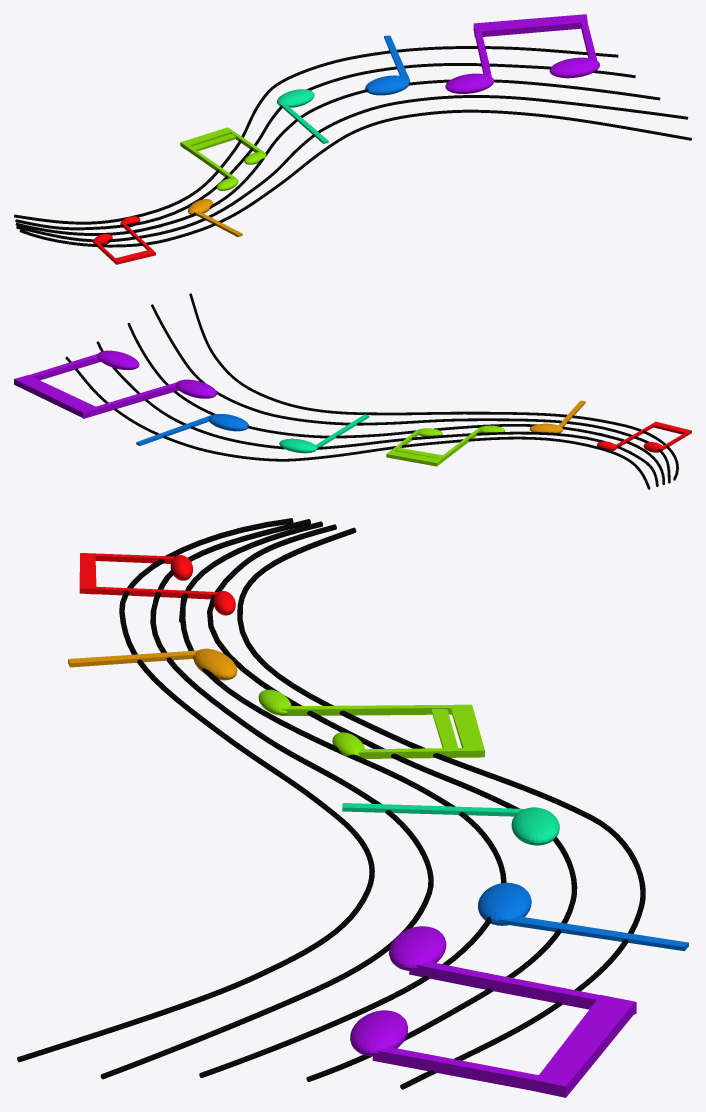
The model's file is MusicWave.fbx.
3 views of the same model, one above another, from view 1: azimuth 30°, elevation 25°; view 2: azimuth 150°, elevation 25°; view 3: azimuth 270°, elevation 25° (orthographic). The views are drawn at different scales.
Visible parts, largest first — view 1: Point.005, Point.002, Point.001, Point.003, Point.004, Cube.009, Sphere.006, Sphere.005, Sphere.008, Sphere.007, Cube.005; view 2: Point.001, Point.005, Point.002, Point.004, Point.003, Cube.009, Cube.007, Cube.008, Sphere.006, Sphere.005, Sphere.008, Cube.005 (+3 smaller); view 3: Point.005, Point.002, Point.001, Point.003, Point.004, Cube.009, Cube.007, Cube.008, Sphere.006, Sphere.005, Cube.010, Sphere.008 (+8 smaller).
Part boxes in pixels (x1=…): Point.005: x1=19, y1=109, x2=691, y2=247; Point.002: x1=16, y1=95, x2=688, y2=242; Point.001: x1=14, y1=46, x2=618, y2=224; Point.003: x1=15, y1=79, x2=660, y2=235; Point.004: x1=15, y1=63, x2=635, y2=230; Cube.009: x1=474, y1=14, x2=587, y2=37; Sphere.006: x1=549, y1=57, x2=599, y2=78; Sphere.005: x1=445, y1=73, x2=494, y2=93; Sphere.008: x1=365, y1=75, x2=410, y2=95; Sphere.007: x1=277, y1=89, x2=314, y2=107; Cube.005: x1=180, y1=127, x2=230, y2=149; Point.001: x1=65, y1=356, x2=650, y2=489; Point.005: x1=189, y1=293, x2=678, y2=480; Point.002: x1=151, y1=304, x2=670, y2=483; Point.004: x1=96, y1=341, x2=658, y2=486; Point.003: x1=127, y1=323, x2=664, y2=484; Cube.009: x1=14, y1=375, x2=99, y2=417; Cube.007: x1=82, y1=382, x2=178, y2=418; Cube.008: x1=29, y1=354, x2=100, y2=380; Sphere.006: x1=97, y1=350, x2=139, y2=369; Sphere.005: x1=176, y1=379, x2=216, y2=398; Sphere.008: x1=208, y1=414, x2=248, y2=431; Cube.005: x1=386, y1=451, x2=442, y2=466; Point.005: x1=17, y1=518, x2=374, y2=1062; Point.002: x1=100, y1=519, x2=433, y2=1079; Point.001: x1=237, y1=527, x2=645, y2=1089; Point.003: x1=179, y1=521, x2=506, y2=1077; Point.004: x1=207, y1=524, x2=577, y2=1081; Cube.009: x1=535, y1=995, x2=634, y2=1097; Cube.007: x1=409, y1=962, x2=636, y2=1014; Cube.008: x1=372, y1=1047, x2=538, y2=1091; Sphere.006: x1=350, y1=1010, x2=408, y2=1056; Sphere.005: x1=389, y1=926, x2=446, y2=970; Cube.010: x1=498, y1=916, x2=688, y2=951; Sphere.008: x1=478, y1=882, x2=531, y2=925.
Size of the model in its own units: 498 by 12.89 by 244.
